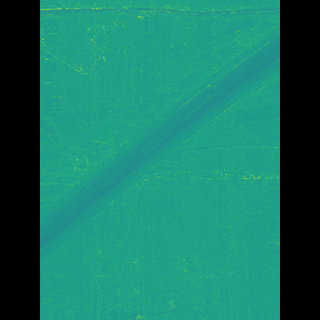Loch: (69, 20, 250, 262), (69, 1, 250, 27)
